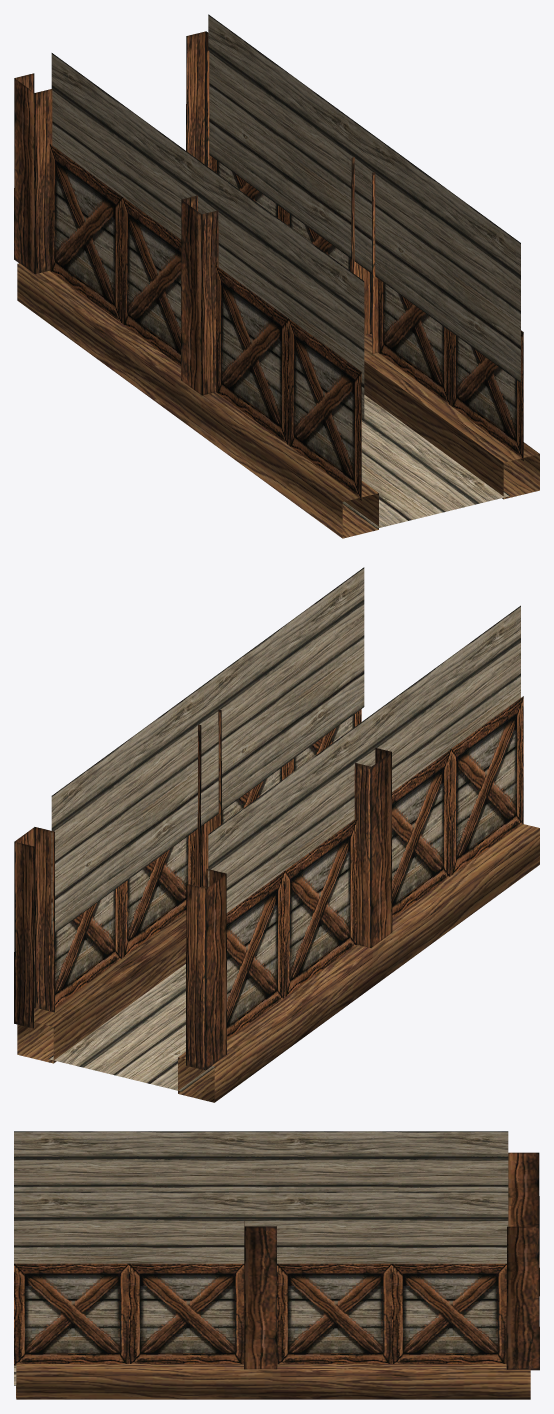
The model's file is LAKETOWN_EXTERIOR_PS_LT_BRIDGE_828__GX.fbx.
3 views of the same model, one above another, from view 1: azimuth 30°, elevation 25°; view 2: azimuth 150°, elevation 25°; view 3: azimuth 270°, elevation 25° (orthographic). The views are drawn at different scales.
Parts seen in each view (by area): view 1: LAKETOWN_EXTERIOR_PS_LT_BRIDGE_828__GX; view 2: LAKETOWN_EXTERIOR_PS_LT_BRIDGE_828__GX; view 3: LAKETOWN_EXTERIOR_PS_LT_BRIDGE_828__GX.
Boxes of the visible parts, x1,y1,x2,y2 form: LAKETOWN_EXTERIOR_PS_LT_BRIDGE_828__GX: (14,14,539,538); LAKETOWN_EXTERIOR_PS_LT_BRIDGE_828__GX: (14,567,539,1102); LAKETOWN_EXTERIOR_PS_LT_BRIDGE_828__GX: (14,1131,539,1399).
Bounding box in the file's own units: 16387 × 20108 × 47855.
Materials: 4 (4 with a texture image).
